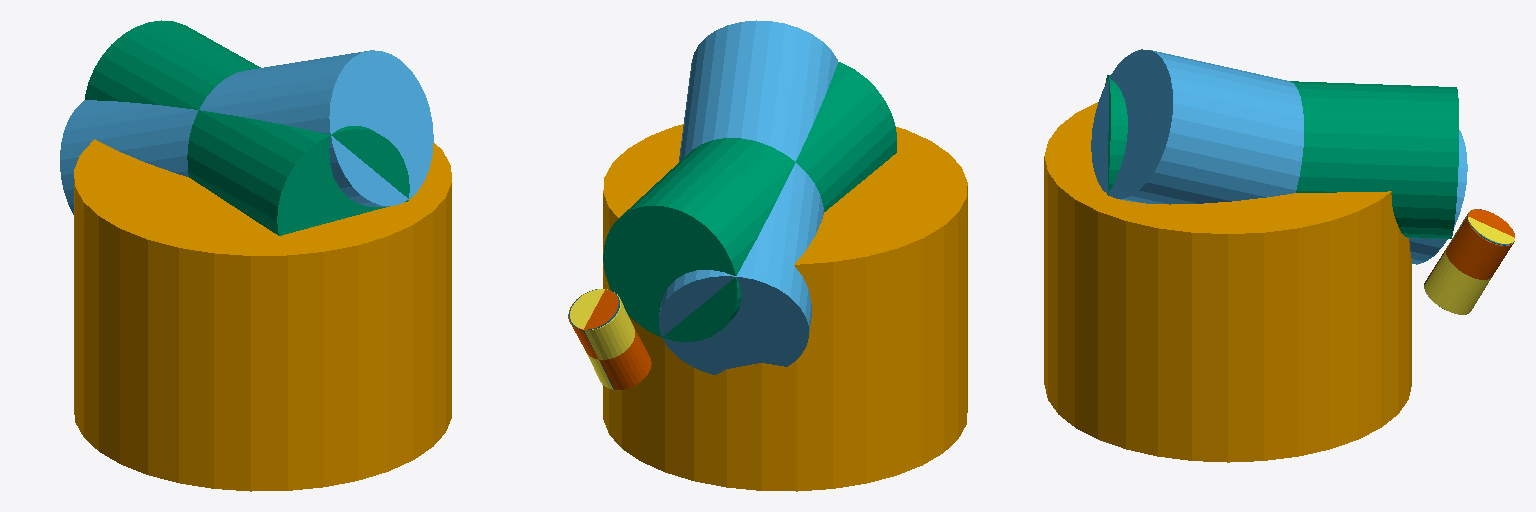
URDF robot description (pepe):
<?xml version="1.0"?><robot name="pepe">
	<link name="0">
		<visual>
			<geometry>
				<cylinder length="0.8812991143720013" radius="0.6429671255992432"/>
			</geometry>
		</visual>
		<collision>
			<geometry>
				<cylinder length="0.8812991143720013" radius="0.6429671255992432"/>
			</geometry>
		</collision>
		<inertial>
			<mass value="1.1445920974513397"/>
			<inertia ixx="0.03" iyy="0.03" izz="0.03" ixy="0" ixz="0" iyx="0"/>
		</inertial>
	</link>
	<link name="11">
		<visual>
			<geometry>
				<cylinder length="1.222311967462471" radius="0.2667499693591241"/>
			</geometry>
		</visual>
		<collision>
			<geometry>
				<cylinder length="1.222311967462471" radius="0.2667499693591241"/>
			</geometry>
		</collision>
		<inertial>
			<mass value="0.273237745321036"/>
			<inertia ixx="0.03" iyy="0.03" izz="0.03" ixy="0" ixz="0" iyx="0"/>
		</inertial>
	</link>
	<link name="12">
		<visual>
			<geometry>
				<cylinder length="1.222311967462471" radius="0.2667499693591241"/>
			</geometry>
		</visual>
		<collision>
			<geometry>
				<cylinder length="1.222311967462471" radius="0.2667499693591241"/>
			</geometry>
		</collision>
		<inertial>
			<mass value="0.273237745321036"/>
			<inertia ixx="0.03" iyy="0.03" izz="0.03" ixy="0" ixz="0" iyx="0"/>
		</inertial>
	</link>
	<link name="23">
		<visual>
			<geometry>
				<cylinder length="0.326604114702552" radius="0.09484445776633754"/>
			</geometry>
		</visual>
		<collision>
			<geometry>
				<cylinder length="0.326604114702552" radius="0.09484445776633754"/>
			</geometry>
		</collision>
		<inertial>
			<mass value="0.009229866947280856"/>
			<inertia ixx="0.03" iyy="0.03" izz="0.03" ixy="0" ixz="0" iyx="0"/>
		</inertial>
	</link>
	<link name="24">
		<visual>
			<geometry>
				<cylinder length="0.326604114702552" radius="0.09484445776633754"/>
			</geometry>
		</visual>
		<collision>
			<geometry>
				<cylinder length="0.326604114702552" radius="0.09484445776633754"/>
			</geometry>
		</collision>
		<inertial>
			<mass value="0.009229866947280856"/>
			<inertia ixx="0.03" iyy="0.03" izz="0.03" ixy="0" ixz="0" iyx="0"/>
		</inertial>
	</link>
	<link name="25">
		<visual>
			<geometry>
				<cylinder length="0.326604114702552" radius="0.09484445776633754"/>
			</geometry>
		</visual>
		<collision>
			<geometry>
				<cylinder length="0.326604114702552" radius="0.09484445776633754"/>
			</geometry>
		</collision>
		<inertial>
			<mass value="0.009229866947280856"/>
			<inertia ixx="0.03" iyy="0.03" izz="0.03" ixy="0" ixz="0" iyx="0"/>
		</inertial>
	</link>
	<joint name="11_to_0" type="revolute">
		<parent link="0"/>
		<child link="11"/>
		<axis xyz="0 1 0"/>
		<limit effort="1" upper="-3.1415" lower="3.1415" velocity="1"/>
		<origin rpy="7.273324378145743 2.34626977243092 3.124485012753529" xyz="0.039737955061784125 0.17901677863852428 0.4574726803024126"/>
	</joint>
	<joint name="12_to_0" type="revolute">
		<parent link="0"/>
		<child link="12"/>
		<axis xyz="0 1 0"/>
		<limit effort="1" upper="-3.1415" lower="3.1415" velocity="1"/>
		<origin rpy="10.909986567218613 2.34626977243092 3.124485012753529" xyz="0.039737955061784125 0.17901677863852428 0.4574726803024126"/>
	</joint>
	<joint name="23_to_0" type="revolute">
		<parent link="0"/>
		<child link="23"/>
		<axis xyz="1 0 0"/>
		<limit effort="1" upper="-3.1415" lower="3.1415" velocity="1"/>
		<origin rpy="25.022200987086155 3.624816900582018 1.6171287311559341" xyz="0.2259549762300913 0.844783063453321 0.1392974527510571"/>
	</joint>
	<joint name="24_to_0" type="revolute">
		<parent link="0"/>
		<child link="24"/>
		<axis xyz="1 0 0"/>
		<limit effort="1" upper="-3.1415" lower="3.1415" velocity="1"/>
		<origin rpy="31.277751233857693 3.624816900582018 1.6171287311559341" xyz="0.2259549762300913 0.844783063453321 0.1392974527510571"/>
	</joint>
	<joint name="25_to_0" type="revolute">
		<parent link="0"/>
		<child link="25"/>
		<axis xyz="1 0 0"/>
		<limit effort="1" upper="-3.1415" lower="3.1415" velocity="1"/>
		<origin rpy="37.533301480629234 3.624816900582018 1.6171287311559341" xyz="0.2259549762300913 0.844783063453321 0.1392974527510571"/>
	</joint>
</robot>

--- Render facts (derived) ---
Views: 3 orthographic renders of the robot side by side, from view 1: azimuth 30°, elevation 25°; view 2: azimuth 150°, elevation 25°; view 3: azimuth 270°, elevation 25°.
Robot: pepe — 6 links, 5 joints (5 revolute); root link 0; default pose: all joints at 0.
Visible links, largest first — view 1: 0, 12, 11; view 2: 0, 11, 12, 25, 23; view 3: 0, 11, 12, 23, 25.
Link boxes in pixels (box(x1,y1,x2,y2)): 0: box(74, 139, 451, 491); 12: box(85, 20, 409, 235); 11: box(60, 50, 433, 214); 0: box(603, 124, 967, 491); 11: box(659, 20, 837, 374); 12: box(603, 62, 896, 341); 25: box(568, 289, 651, 389); 23: box(570, 289, 634, 389); 0: box(1044, 102, 1411, 462); 11: box(1091, 49, 1467, 264); 12: box(1105, 75, 1458, 238); 23: box(1424, 209, 1514, 314); 25: box(1424, 209, 1514, 308).
Size in the robot's own frame: 1.29 by 1.65 by 1.38 metres.
Geometry: primitives only (box / cylinder / sphere), no mesh files.
